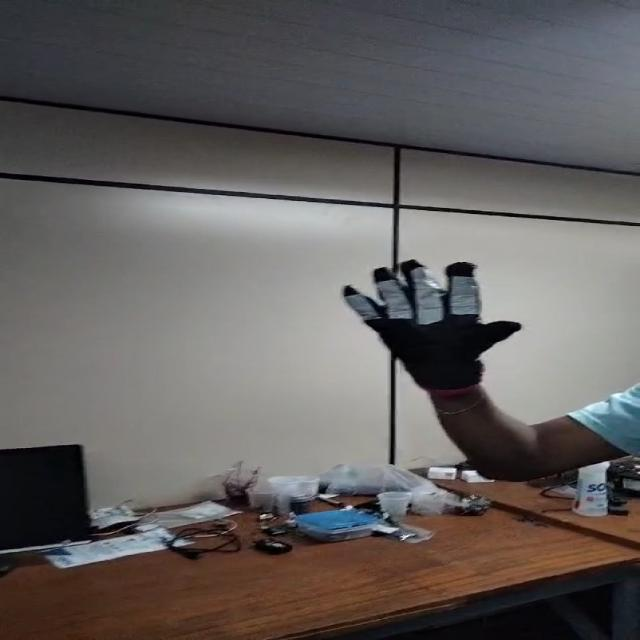Gloves: (338, 256, 529, 393)
